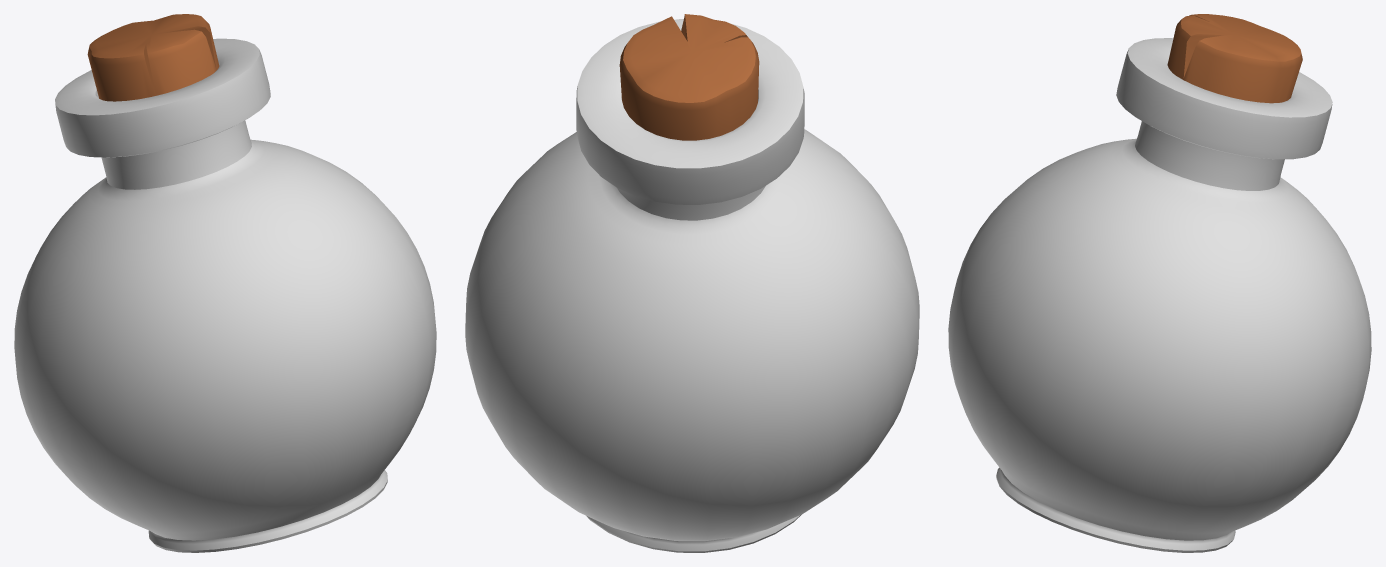
The model's file is Potion.fbx.
The picture shows the model from 3 angles, left to right: view 1: azimuth 30°, elevation 25°; view 2: azimuth 150°, elevation 25°; view 3: azimuth 270°, elevation 25°; orthographic projection. The views are drawn at different scales.
Parts seen in each view (by area): view 1: Sphere, Cylinder; view 2: Sphere, Cylinder; view 3: Sphere, Cylinder.
Boxes of the visible parts, x1=… form: Sphere: x1=14, y1=38, x2=436, y2=552; Cylinder: x1=87, y1=14, x2=219, y2=101; Sphere: x1=465, y1=19, x2=919, y2=552; Cylinder: x1=619, y1=14, x2=759, y2=140; Sphere: x1=948, y1=38, x2=1371, y2=552; Cylinder: x1=1167, y1=14, x2=1302, y2=103.
Bounding box in the file's own units: 2.65 × 3.36 × 2.64.
